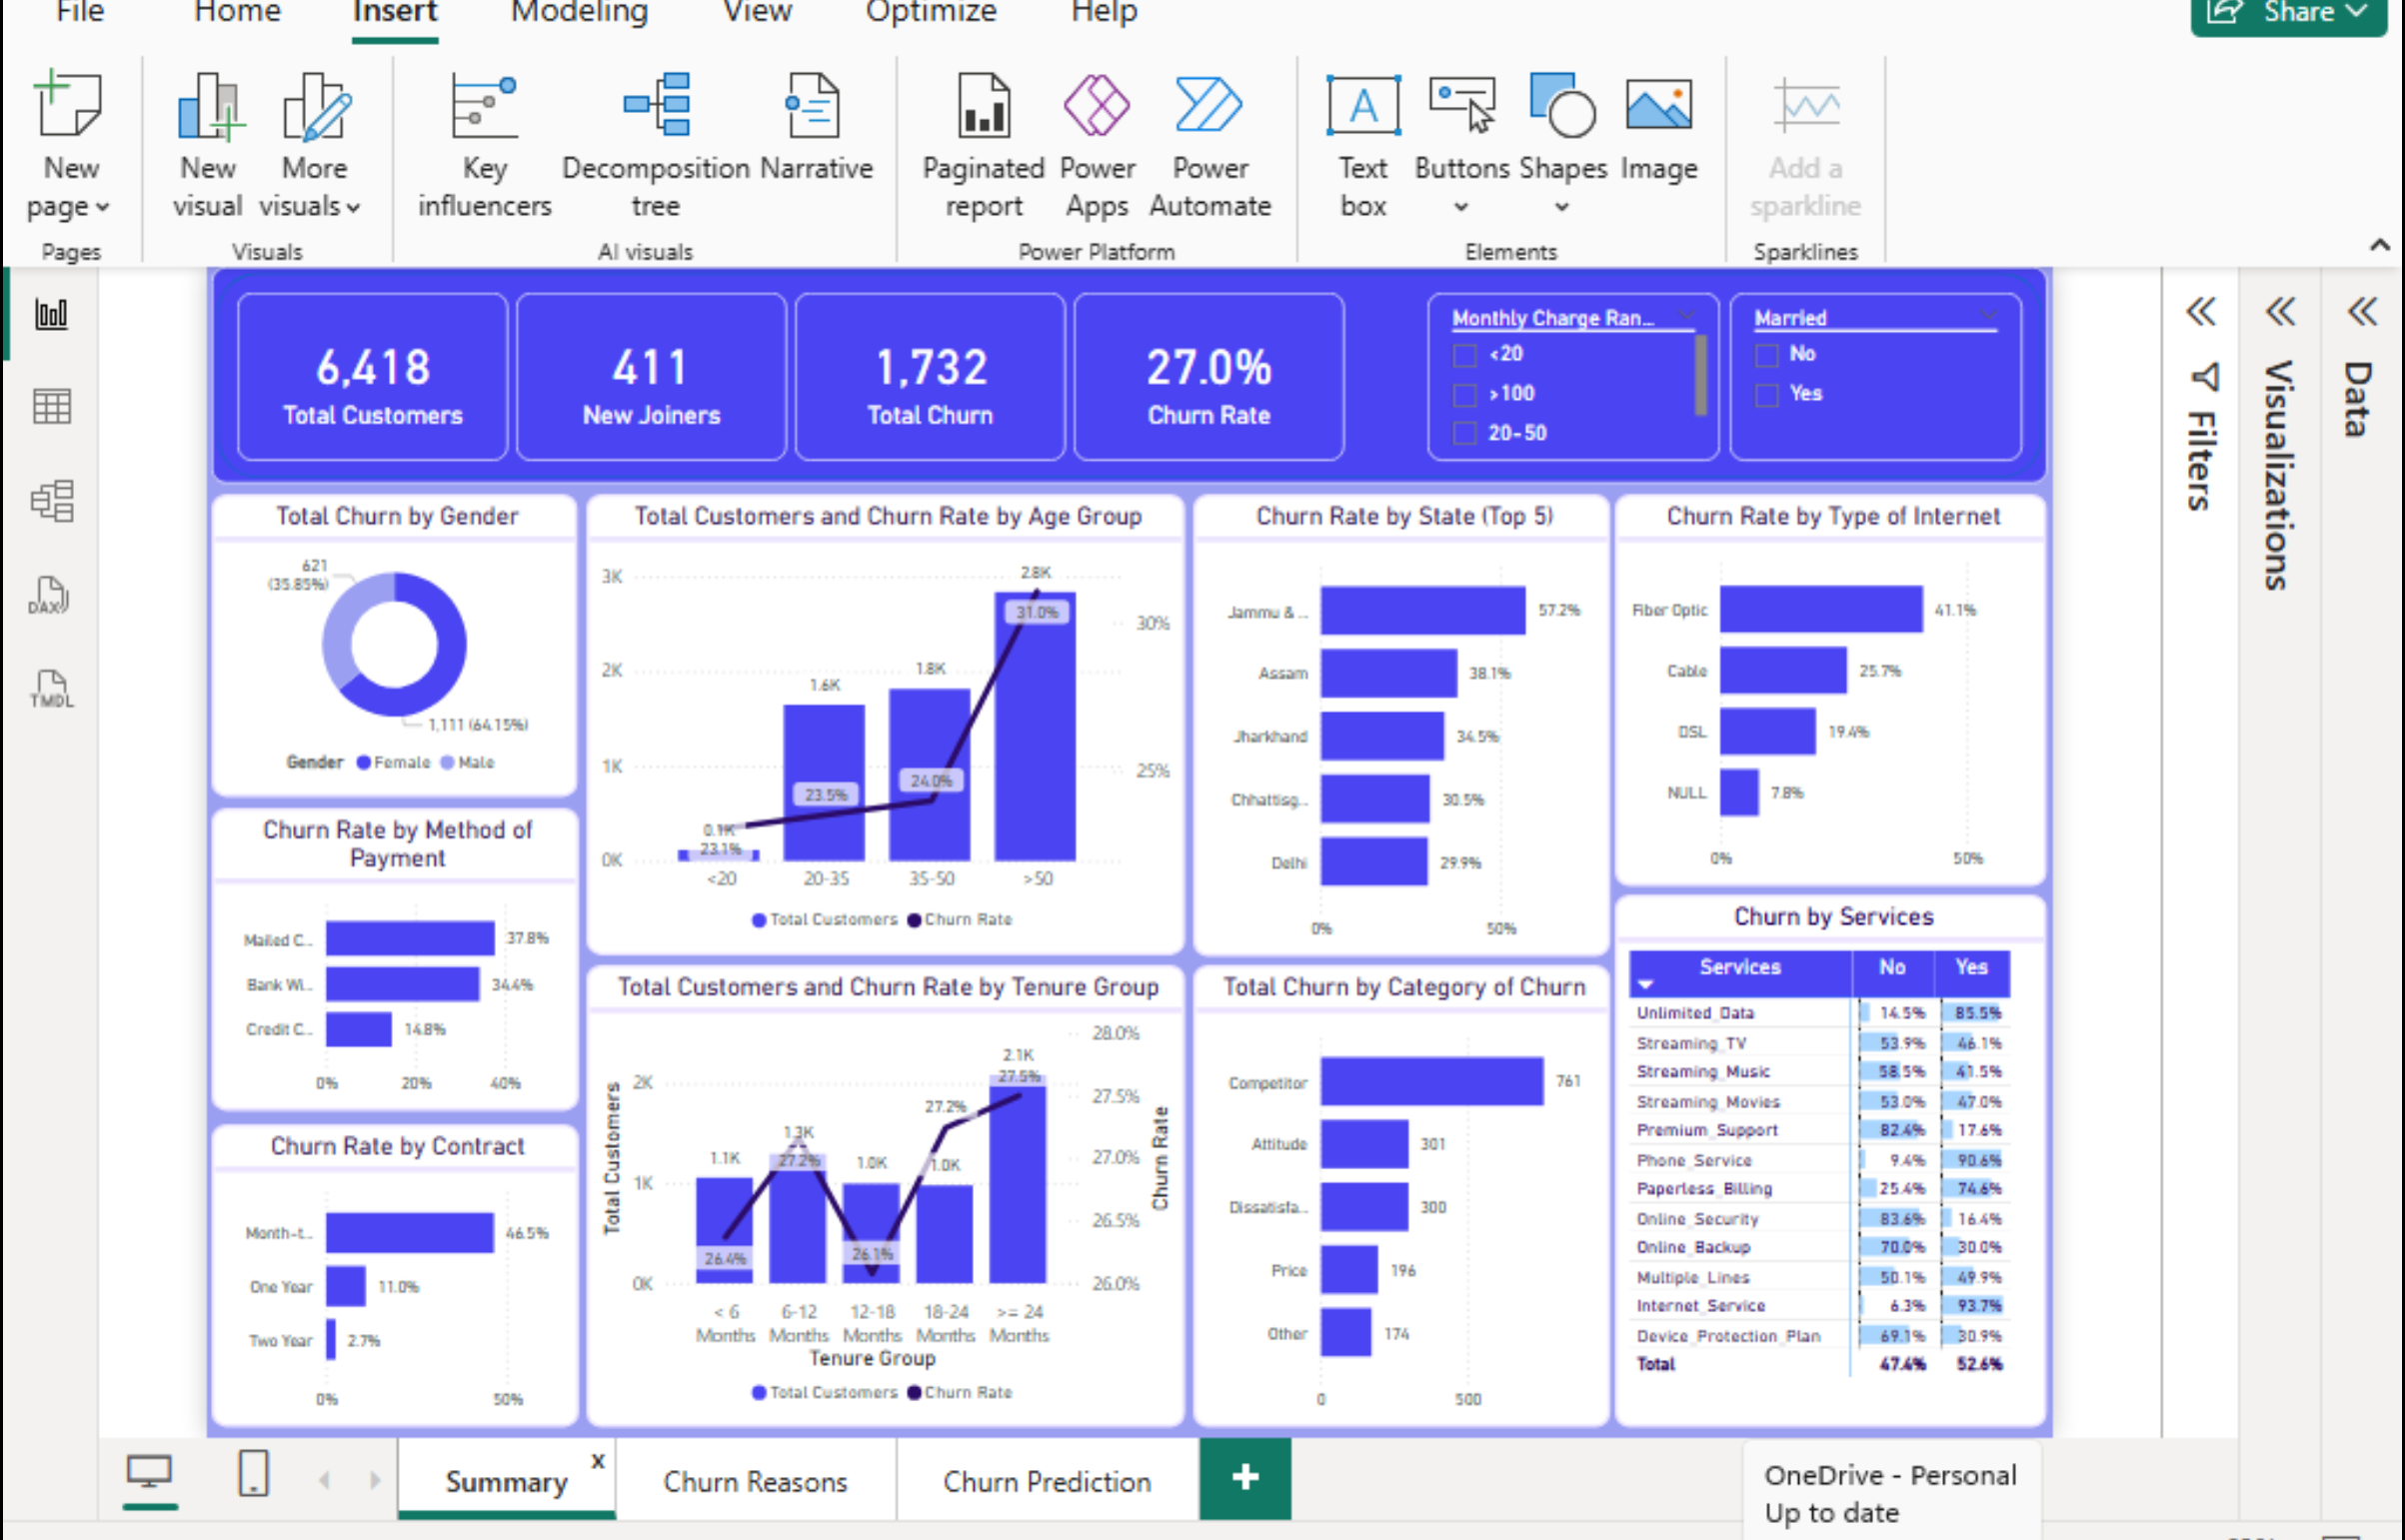

This screenshot's page, from the dashboard's own definition file:
{"tool":"powerbi","page":{"name":"Summary","canvas":[1260,800],"ordinal":0},"visuals":[{"type":"shape","box":[3,0,1254,148],"z":0},{"type":"card","fields":{"Values":["_Measure.Total Customes"]},"box":[20.6,17.2,185,115],"z":1000},{"type":"card","fields":{"Values":["_Measure.New Joiners"]},"box":[211.1,17.2,185,115],"z":2000},{"type":"card","fields":{"Values":["_Measure.Total Charn"]},"box":[401.7,17.2,185,115],"z":3000},{"type":"card","fields":{"Values":["_Measure.Churn Rate"]},"box":[592.2,17.2,185,115],"z":4000},{"type":"donutChart","fields":{"Category":["Customer_Data.Gender"],"Y":["_Measure.Total Charn"]},"box":[3.4,155,250,207],"z":5000},{"type":"lineStackedColumnComboChart","fields":{"Category":["mapping_AgeGrp.Age Group"],"Y":["_Measure.Total Customers"],"Y2":["_Measure.Churn Rate"]},"box":[259.2,154.5,408.6,315],"z":6000},{"type":"clusteredBarChart","title":"Churn Rate by Method of Payment","fields":{"Y":["_Measure.Churn Rate"],"Category":["Customer_Data.Payment_Method"]},"box":[3.4,370,250.6,207],"z":7000},{"type":"clusteredBarChart","fields":{"Y":["_Measure.Churn Rate"],"Category":["Customer_Data.Contract"]},"box":[3.4,585.4,250.6,207],"z":8000},{"type":"lineStackedColumnComboChart","fields":{"Y":["_Measure.Total Customers"],"Category":["mapping_TenureGrp.Tenure Group"],"Y2":["_Measure.Churn Rate"]},"box":[259.2,477.2,408.6,315.9],"z":9000},{"type":"clusteredBarChart","title":"Churn Rate by State (Top 5)","fields":{"Category":["Customer_Data.State"],"Y":["_Measure.Churn Rate"]},"box":[673,154.5,285,315.9],"z":10000},{"type":"clusteredBarChart","title":"Total Churn by Category of Churn","fields":{"Y":["_Measure.Total Charn"],"Category":["Customer_Data.Churn_Category"]},"box":[673,477.2,285,315.9],"z":11000},{"type":"clusteredBarChart","title":"Churn Rate by Type of Internet","fields":{"Y":["_Measure.Churn Rate"],"Category":["Customer_Data.Internet_Type"]},"box":[961.3,154.5,295.3,268],"z":12000},{"type":"pivotTable","title":"Churn by Services","fields":{"Rows":["pro_Services.Services"],"Columns":["pro_Services.Status"],"Values":["Sum(pro_Services.Churn Status)"]},"box":[961.3,429.2,295.3,363.9],"z":13000},{"type":"slicer","fields":{"Values":["Customer_Data.Monthly Charge Status"]},"box":[834,18,200,115.4],"z":14000},{"type":"slicer","fields":{"Values":["Customer_Data.Married"]},"box":[1040.1,18,200.1,115.4],"z":15000}]}

Visuals, with their boxes on the page's 1260x800 design canvas (x1, y1, x2, y2). These are canvas units, not pixel positions in the 2405x1540 screenshot, which may show the page scaled, cropped or inside an application window:
shape: region(3, 0, 1257, 148)
card - _Measure.Total Customes: region(21, 17, 206, 132)
card - _Measure.New Joiners: region(211, 17, 396, 132)
card - _Measure.Total Charn: region(402, 17, 587, 132)
card - _Measure.Churn Rate: region(592, 17, 777, 132)
donutChart - Customer_Data.Gender x _Measure.Total Charn: region(3, 155, 253, 362)
lineStackedColumnComboChart - mapping_AgeGrp.Age Group x _Measure.Total Customers: region(259, 154, 668, 470)
"Churn Rate by Method of Payment" clusteredBarChart: region(3, 370, 254, 577)
clusteredBarChart - _Measure.Churn Rate x Customer_Data.Contract: region(3, 585, 254, 792)
lineStackedColumnComboChart - _Measure.Total Customers x mapping_TenureGrp.Tenure Group: region(259, 477, 668, 793)
"Churn Rate by State (Top 5)" clusteredBarChart: region(673, 154, 958, 470)
"Total Churn by Category of Churn" clusteredBarChart: region(673, 477, 958, 793)
"Churn Rate by Type of Internet" clusteredBarChart: region(961, 154, 1257, 422)
"Churn by Services" pivotTable: region(961, 429, 1257, 793)
slicer - Customer_Data.Monthly Charge Status: region(834, 18, 1034, 133)
slicer - Customer_Data.Married: region(1040, 18, 1240, 133)
